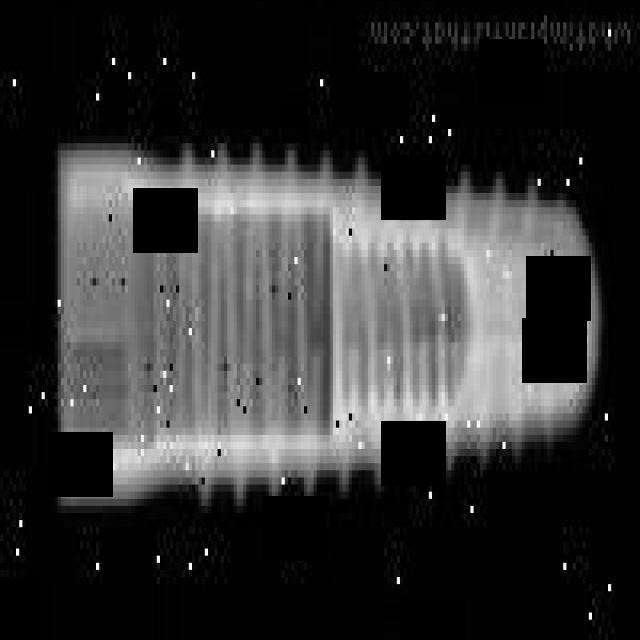Root canal obturation: (57, 142, 607, 515)
